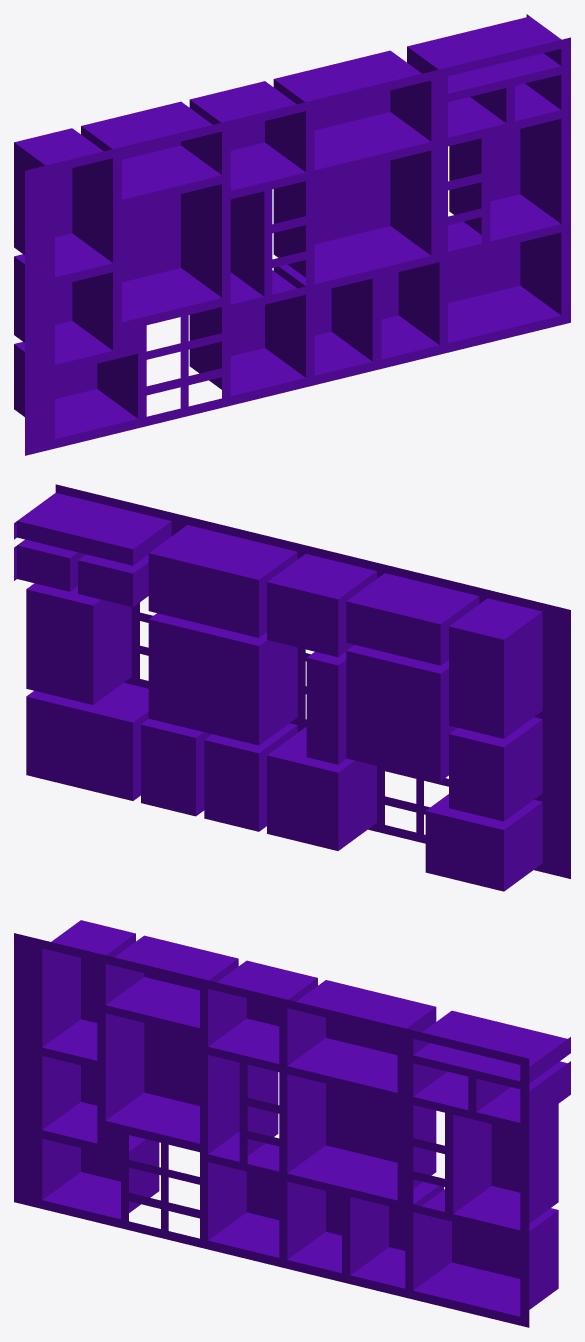
The model's file is libreroMorado.obj.
The picture shows the model from 3 angles, top to bottom: view 1: azimuth 30°, elevation 25°; view 2: azimuth 150°, elevation 25°; view 3: azimuth 330°, elevation 25°; orthographic projection. The views are drawn at different scales.
Visible parts, largest first — view 1: ArmFBXASC195FBXASC161rioFBXASC032EmbitidoFBXASC032estrut; view 2: ArmFBXASC195FBXASC161rioFBXASC032EmbitidoFBXASC032estrut; view 3: ArmFBXASC195FBXASC161rioFBXASC032EmbitidoFBXASC032estrut.
Boxes of the visible parts, <box> form: ArmFBXASC195FBXASC161rioFBXASC032EmbitidoFBXASC032estrut: <box>14,14,570,455</box>; ArmFBXASC195FBXASC161rioFBXASC032EmbitidoFBXASC032estrut: <box>14,484,570,891</box>; ArmFBXASC195FBXASC161rioFBXASC032EmbitidoFBXASC032estrut: <box>14,920,570,1327</box>.
Size of the model in its own units: 1305 by 651 by 183.
1 material, 1 textured.
